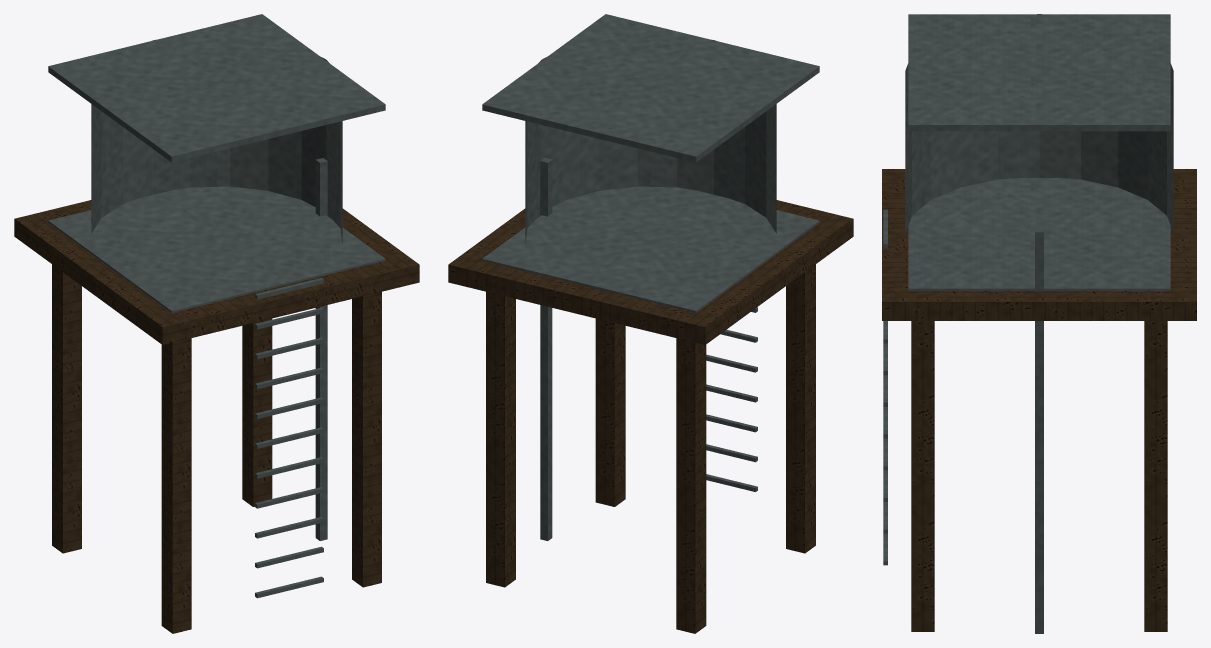
File: RURAL_reservatorio_elevado.gltf
3 renders of one model, left to right at view 1: azimuth 30°, elevation 25°; view 2: azimuth 150°, elevation 25°; view 3: azimuth 270°, elevation 25°, orthographic. The views are drawn at different scales.
Visible parts, largest first — view 1: reservatorio_elevado_TAMPA, reservatorio_elevado_POSTE, reservatorio_elevado_PLATAFORMA, reservatorio_elevado_TANQUE, reservatorio_elevado_ESCADA, reservatorio_elevado_CANO; view 2: reservatorio_elevado_TAMPA, reservatorio_elevado_POSTE, reservatorio_elevado_PLATAFORMA, reservatorio_elevado_TANQUE, reservatorio_elevado_CANO, reservatorio_elevado_ESCADA; view 3: reservatorio_elevado_TAMPA, reservatorio_elevado_TANQUE, reservatorio_elevado_PLATAFORMA, reservatorio_elevado_POSTE, reservatorio_elevado_CANO, reservatorio_elevado_ESCADA.
Boxes of the visible parts, left/top/right/bottom form: reservatorio_elevado_TAMPA: left=48, top=14, right=385, bottom=312; reservatorio_elevado_POSTE: left=52, top=264, right=381, bottom=633; reservatorio_elevado_PLATAFORMA: left=14, top=200, right=419, bottom=344; reservatorio_elevado_TANQUE: left=91, top=40, right=342, bottom=243; reservatorio_elevado_ESCADA: left=255, top=278, right=323, bottom=598; reservatorio_elevado_CANO: left=315, top=158, right=327, bottom=540; reservatorio_elevado_TAMPA: left=482, top=14, right=819, bottom=312; reservatorio_elevado_POSTE: left=486, top=264, right=815, bottom=633; reservatorio_elevado_PLATAFORMA: left=448, top=200, right=853, bottom=344; reservatorio_elevado_TANQUE: left=525, top=40, right=776, bottom=243; reservatorio_elevado_CANO: left=540, top=158, right=552, bottom=540; reservatorio_elevado_ESCADA: left=706, top=307, right=757, bottom=491; reservatorio_elevado_TAMPA: left=908, top=14, right=1170, bottom=290; reservatorio_elevado_TANQUE: left=905, top=14, right=1173, bottom=234; reservatorio_elevado_PLATAFORMA: left=882, top=169, right=1196, bottom=320; reservatorio_elevado_POSTE: left=911, top=321, right=1167, bottom=631; reservatorio_elevado_CANO: left=1035, top=228, right=1043, bottom=633; reservatorio_elevado_ESCADA: left=883, top=209, right=887, bottom=565.
Bounding box in the file's own units: 2.7 × 4.81 × 2.7.
Materials: 2 (2 with a texture image).
